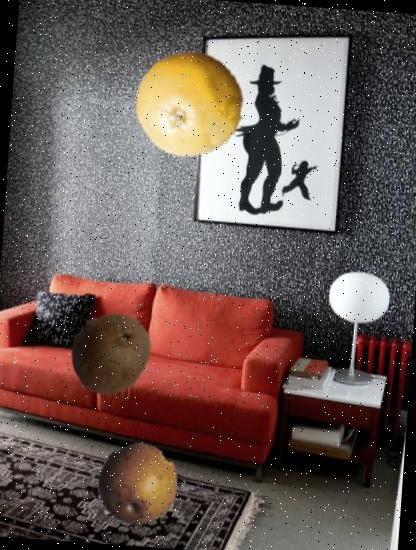Granadilla: (92, 439, 182, 528)
Grapefruit: (132, 46, 250, 164)
Kiwi: (66, 308, 158, 400)
